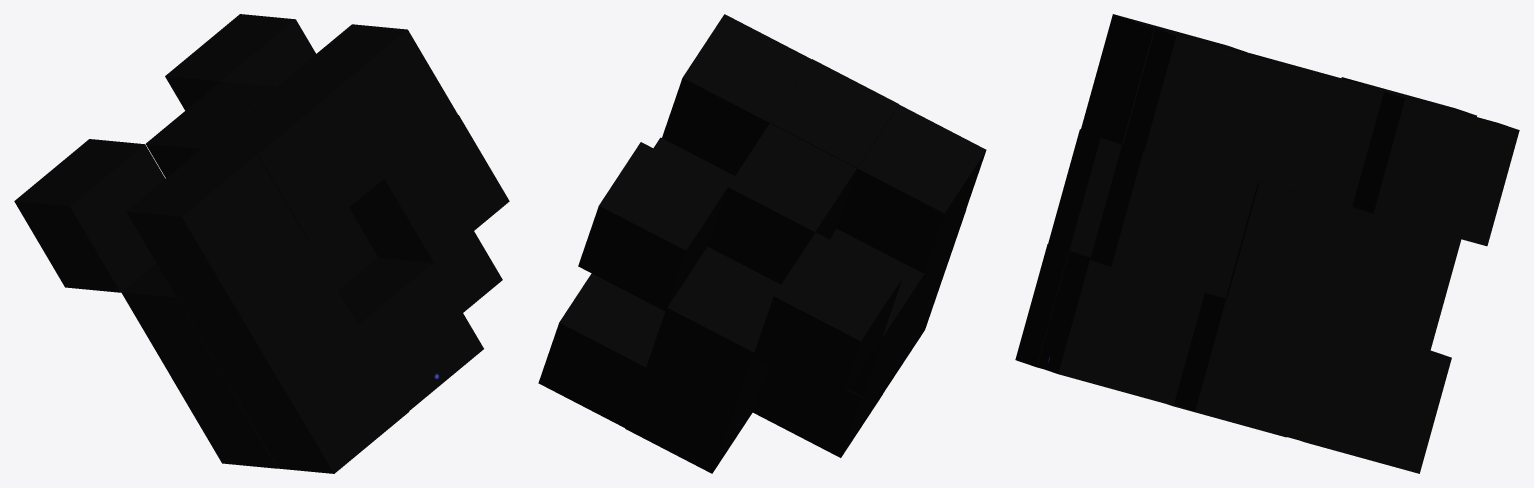
3 views of the same model, side by side, from view 1: azimuth 30°, elevation 25°; view 2: azimuth 150°, elevation 25°; view 3: azimuth 270°, elevation 25° (orthographic). The views are drawn at different scales.
Visible parts, largest first — view 1: node_id97, node_id115, node_id59, node_id84, node_id72, node_id103, node_id78, node_id90, node_id109, node_id65, node_id121, node_id47 (+2 smaller); view 2: node_id115, node_id109, node_id97, node_id121, node_id103, node_id22, node_id16, node_id72, node_id10, node_id47, node_id65, node_id84 (+2 smaller); view 3: node_id109, node_id103, node_id78, node_id90, node_id40, node_id34, node_id16, node_id121, node_id22, node_id84, node_id72, node_id97 (+1 smaller).
Boxes of the visible parts, left/top/right/bottom form: node_id97: left=126, top=149, right=307, bottom=302; node_id115: left=14, top=139, right=165, bottom=292; node_id59: left=228, top=325, right=409, bottom=473; node_id84: left=177, top=240, right=357, bottom=388; node_id72: left=203, top=87, right=383, bottom=240; node_id103: left=277, top=24, right=457, bottom=176; node_id78: left=349, top=115, right=509, bottom=263; node_id90: left=337, top=257, right=483, bottom=410; node_id109: left=165, top=14, right=315, bottom=110; node_id65: left=121, top=263, right=227, bottom=383; node_id121: left=146, top=81, right=276, bottom=177; node_id47: left=172, top=378, right=278, bottom=468; node_id115: left=753, top=232, right=902, bottom=401; node_id109: left=578, top=142, right=727, bottom=311; node_id97: left=837, top=105, right=986, bottom=273; node_id121: left=707, top=123, right=856, bottom=284; node_id103: left=662, top=14, right=811, bottom=175; node_id22: left=646, top=247, right=780, bottom=412; node_id16: left=538, top=273, right=664, bottom=428; node_id72: left=770, top=59, right=899, bottom=227; node_id10: left=625, top=364, right=768, bottom=473; node_id47: left=754, top=336, right=902, bottom=457; node_id65: left=830, top=229, right=924, bottom=397; node_id84: left=905, top=210, right=965, bottom=331; node_id109: left=1352, top=91, right=1519, bottom=246; node_id103: left=1123, top=28, right=1290, bottom=183; node_id78: left=1090, top=143, right=1257, bottom=298; node_id90: left=1037, top=251, right=1203, bottom=405; node_id40: left=1174, top=293, right=1340, bottom=442; node_id34: left=1226, top=181, right=1373, bottom=330; node_id16: left=1301, top=326, right=1451, bottom=473; node_id121: left=1249, top=53, right=1383, bottom=205; node_id22: left=1343, top=204, right=1461, bottom=350; node_id84: left=1048, top=129, right=1121, bottom=256; node_id72: left=1101, top=21, right=1259, bottom=144; node_id97: left=1081, top=14, right=1247, bottom=135.
Size of the model in its own units: 0.4786 by 0.512 by 0.4942.
Materials: 19 (19 with a texture image).
